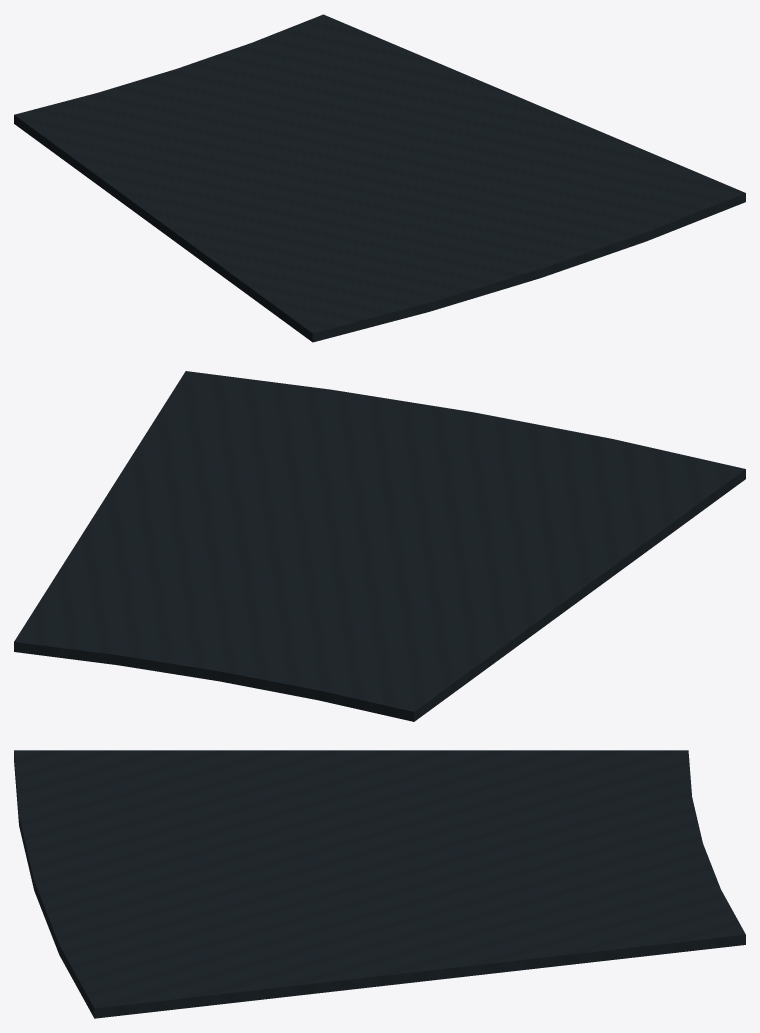
Rendered from Transit_Road_4L_Curve15_R36_Surface.glb.
The picture shows the model from 3 angles, top to bottom: view 1: azimuth 30°, elevation 25°; view 2: azimuth 150°, elevation 25°; view 3: azimuth 270°, elevation 25°; orthographic projection. The views are drawn at different scales.
Parts seen in each view (by area): view 1: Transit_Road_4L_Curve15_R36_Surface; view 2: Transit_Road_4L_Curve15_R36_Surface; view 3: Transit_Road_4L_Curve15_R36_Surface.
Boxes of the visible parts, bbox=[...] form: Transit_Road_4L_Curve15_R36_Surface: bbox=[14, 14, 745, 342]; Transit_Road_4L_Curve15_R36_Surface: bbox=[14, 371, 745, 721]; Transit_Road_4L_Curve15_R36_Surface: bbox=[14, 750, 745, 1018].
Bounding box in the file's own units: 10.87 × 0.2 × 13.02.
1 material, 1 textured.
